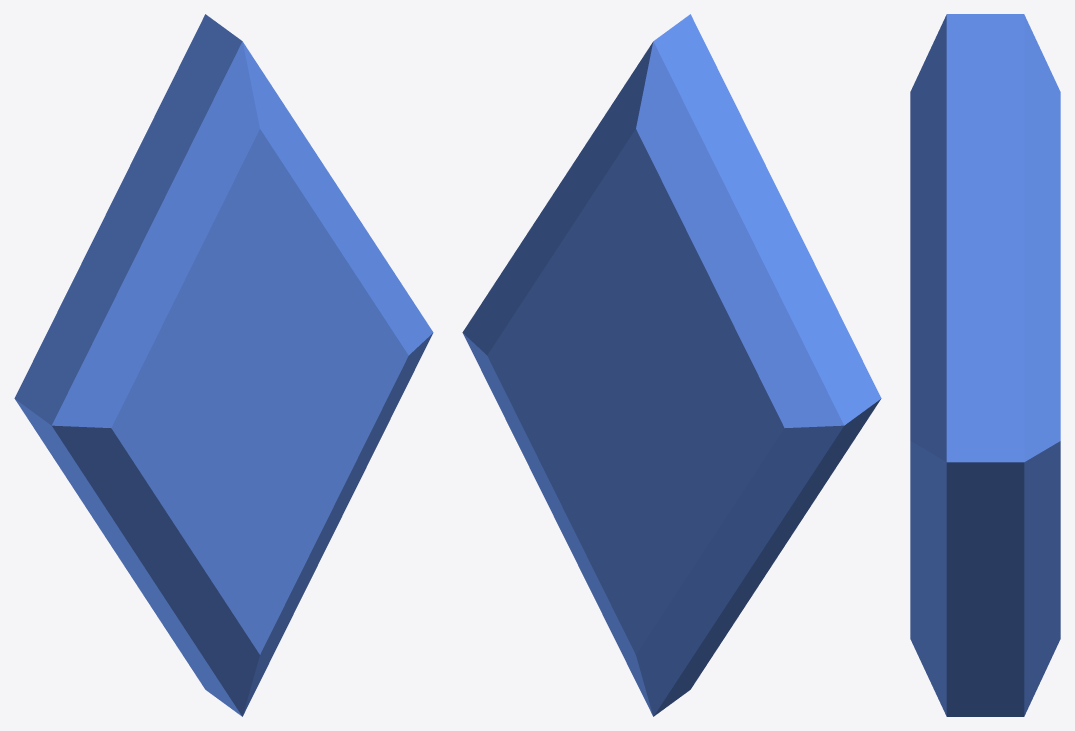
The model's file is maviTas.fbx.
The picture shows the model from 3 angles, left to right: view 1: azimuth 30°, elevation 25°; view 2: azimuth 150°, elevation 25°; view 3: azimuth 270°, elevation 25°; orthographic projection. The views are drawn at different scales.
Visible parts, largest first — view 1: maviTas; view 2: maviTas; view 3: maviTas.
Part boxes in pixels (x1=…): maviTas: x1=14, y1=14, x2=433, y2=716; maviTas: x1=462, y1=14, x2=881, y2=716; maviTas: x1=910, y1=14, x2=1060, y2=716.
Bounding box in the file's own units: 166 × 281 × 54.27.
